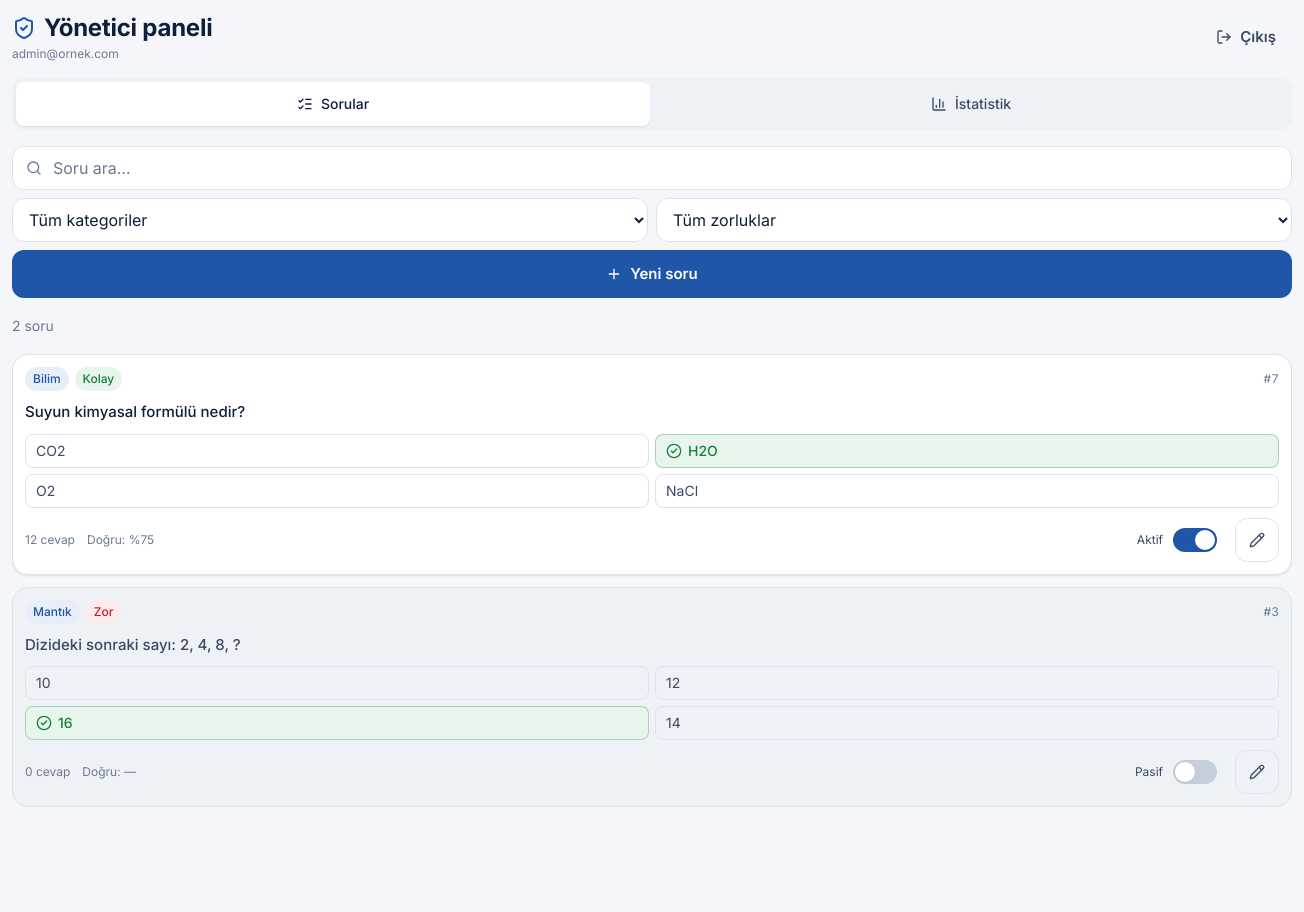
AdminScreen sorular › aktif/pasif hatasında durum değişmez ve hata gösterilir
This screenshot has width=1304, height=912.
Expected: the text "Suyun kimyasal formülü nedir?" is shown, 25,402 -> 245,421
Step 1. Click the switch named "Soru #3 aktif" → (1195, 772), box 1167,750 -> 1223,794
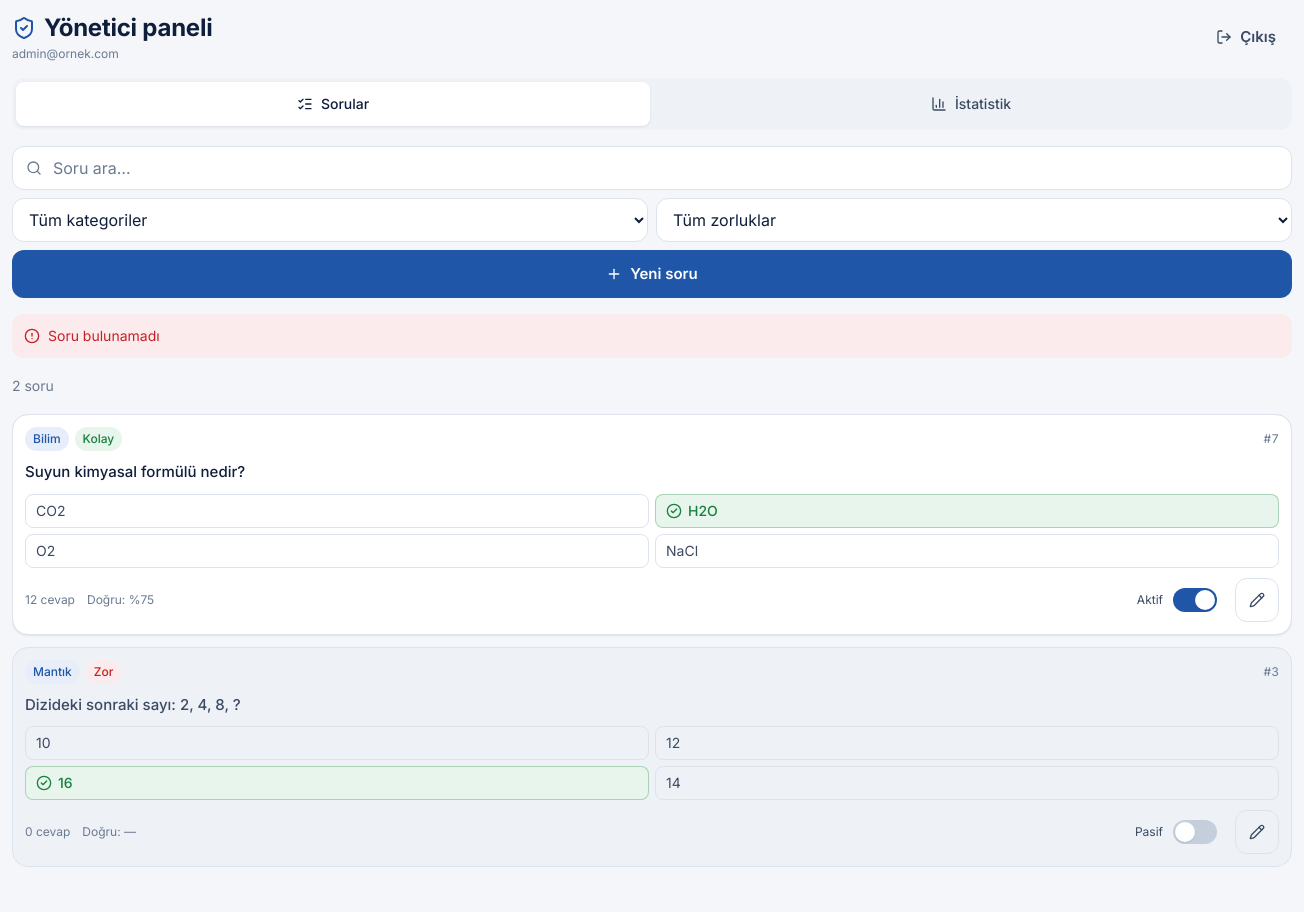
Now the message reads "Soru bulunamadı", box 48,327 -> 160,344
